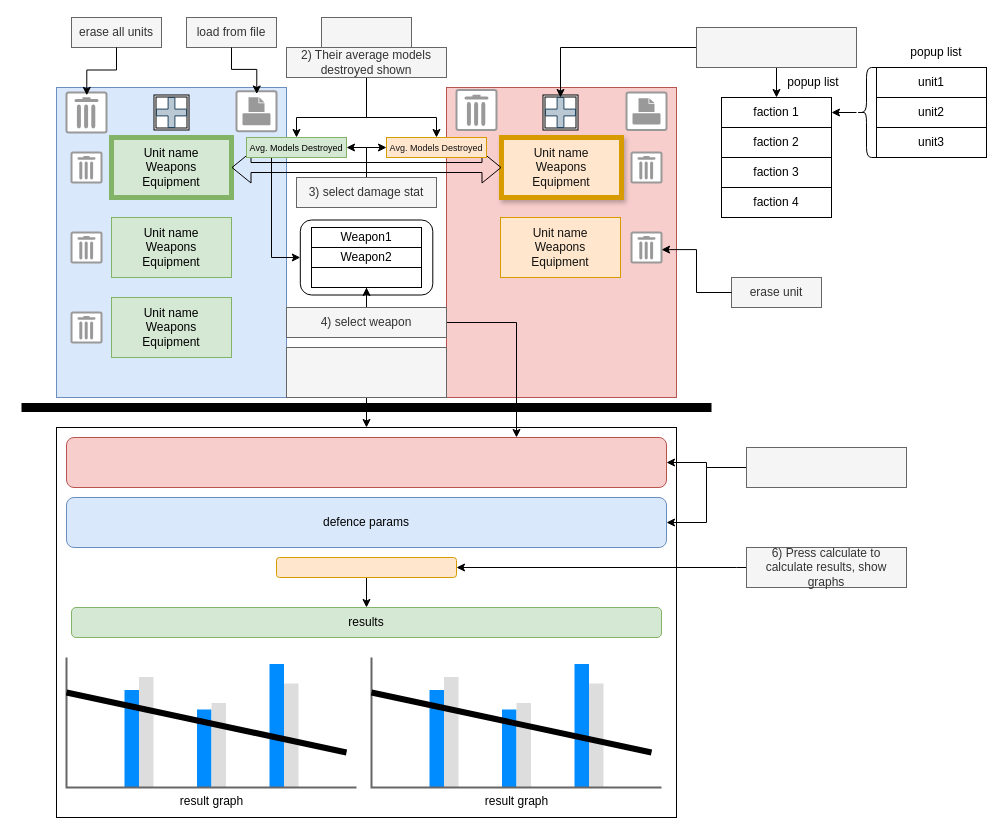
Image size: 1004x835. Some labels were removed from this diagram. The shapes that lost their labels are listed below. From the top down, each one's centre as x and y in pixels, then its label:
At (x=366, y=32): "1) Select 2 units".
At (x=776, y=47): "can insert from selector".
At (x=366, y=277): "Weapon3".
At (x=366, y=372): "5) defence params, attack params inserted into calc form".
At (x=366, y=462): "attack params".
At (x=826, y=467): "Can be inputted manually".
At (x=366, y=567): "calculate button".
